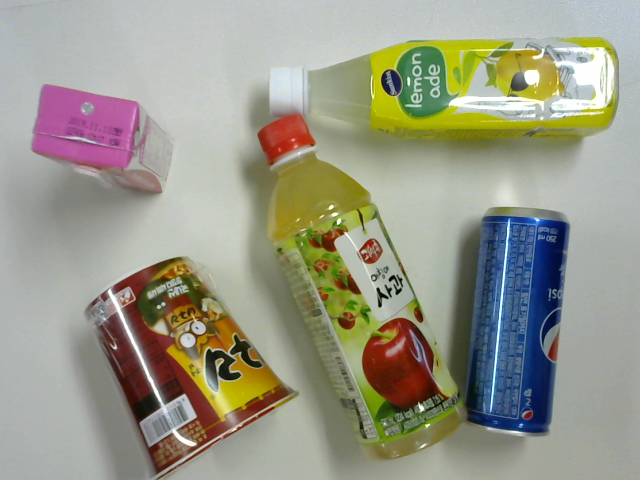Morning_Apple_500ml: (261, 116, 463, 464)
Pepsi_Cola_Can_250ml: (467, 208, 569, 440)
Raccoon: (89, 262, 293, 480)
Strawberry_E_Mong: (25, 78, 177, 200)
Sunkist_Lemonaid_Pet: (261, 40, 621, 146)
